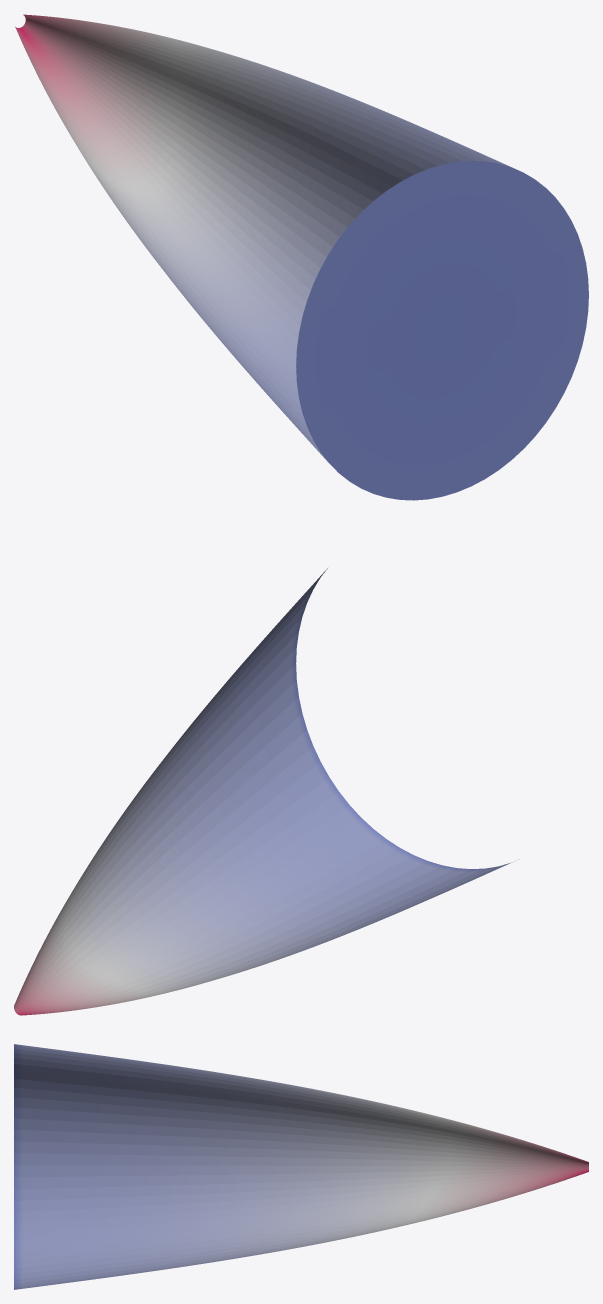
File: frame_015.glb
The picture shows the model from 3 angles, top to bottom: view 1: azimuth 30°, elevation 25°; view 2: azimuth 150°, elevation 25°; view 3: azimuth 270°, elevation 25°; orthographic projection. The views are drawn at different scales.
Parts seen in each view (by area): view 1: world; view 2: world; view 3: world.
Boxes of the visible parts, x1,y1,x2,y2 form: world: (15,14,588,500); world: (14,568,518,1015); world: (14,1044,588,1289).
Bounding box in the file's own units: 0.4 × 0.4335 × 1.
